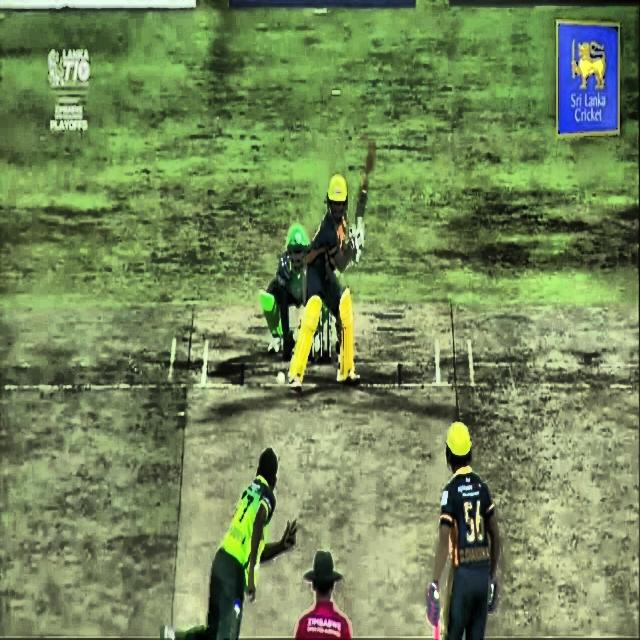Left-stump: (312, 340, 315, 361)
Middle-stump: (319, 315, 323, 360)
Right-stump: (327, 310, 331, 360)
